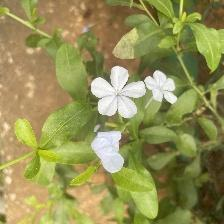chitrak: (88, 62, 150, 123), (147, 70, 180, 106)
